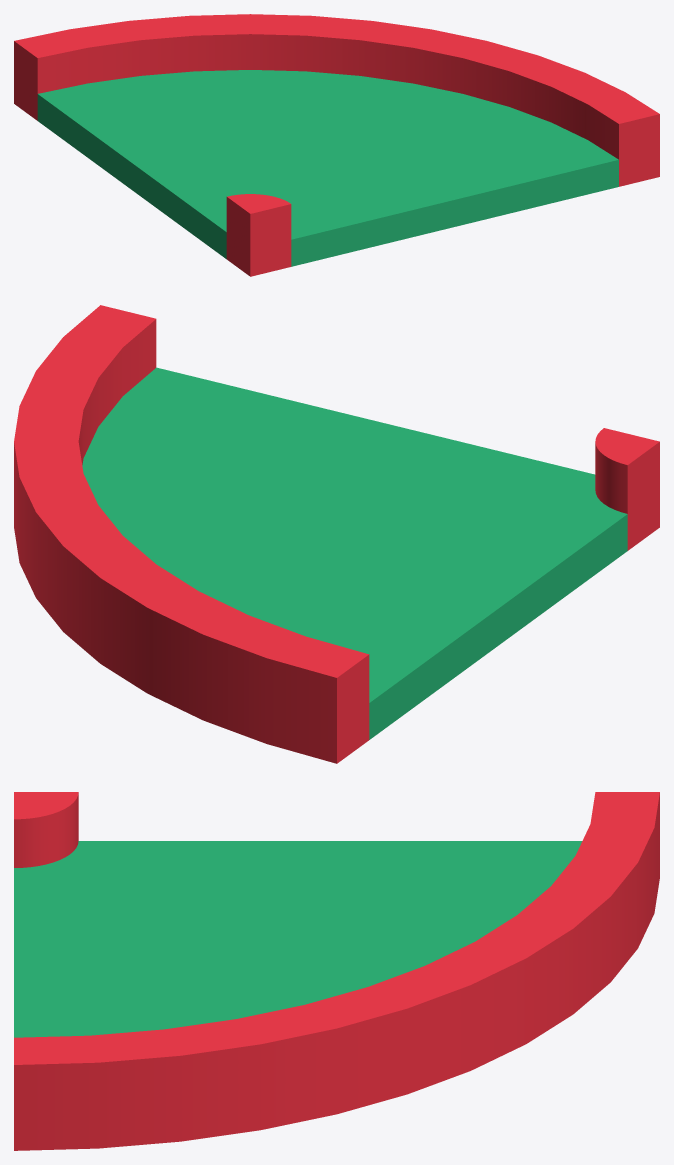
The model's file is roundCornerA.obj.
3 renders of one model, top to bottom at view 1: azimuth 30°, elevation 25°; view 2: azimuth 150°, elevation 25°; view 3: azimuth 270°, elevation 25°, orthographic. The views are drawn at different scales.
Parts seen in each view (by area): view 1: roundCornerA; view 2: roundCornerA; view 3: roundCornerA.
Part boxes in pixels (x1,y1,x2,y2): roundCornerA: [14, 14, 659, 276]; roundCornerA: [14, 305, 659, 763]; roundCornerA: [14, 792, 659, 1150].
Bounding box in the file's own units: 0.9999 × 0.1467 × 0.9999.
